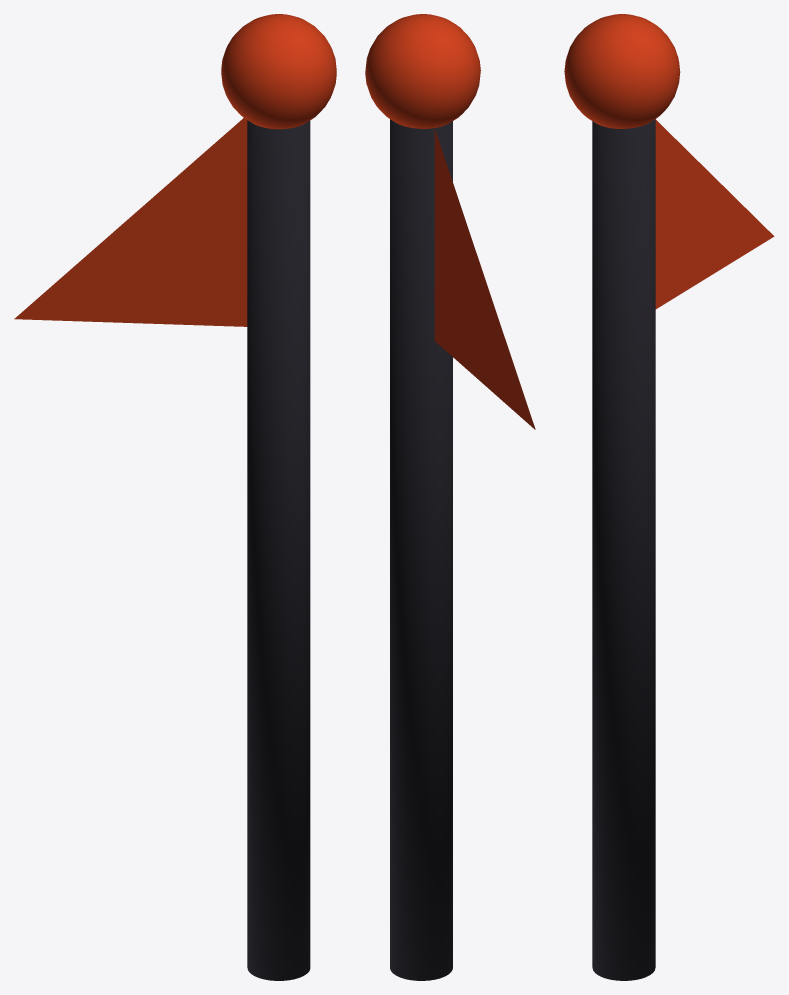
Rendered from GameStage_1(GoalPost).obj.
The picture shows the model from 3 angles, left to right: view 1: azimuth 30°, elevation 25°; view 2: azimuth 150°, elevation 25°; view 3: azimuth 270°, elevation 25°; orthographic projection.
Visible parts, largest first — view 1: Cylinder, Plane, Sphere; view 2: Cylinder, Plane, Sphere; view 3: Cylinder, Plane, Sphere.
Boxes of the visible parts, left/top/right/bottom form: Cylinder: left=247, top=120, right=310, bottom=980; Plane: left=14, top=118, right=247, bottom=326; Sphere: left=221, top=14, right=336, bottom=129; Cylinder: left=390, top=119, right=452, bottom=980; Plane: left=434, top=129, right=535, bottom=429; Sphere: left=365, top=14, right=480, bottom=128; Cylinder: left=592, top=119, right=655, bottom=980; Plane: left=655, top=119, right=774, bottom=309; Sphere: left=564, top=14, right=680, bottom=128.
Bounding box in the file's own units: 3.33 × 12.62 × 2.53.
